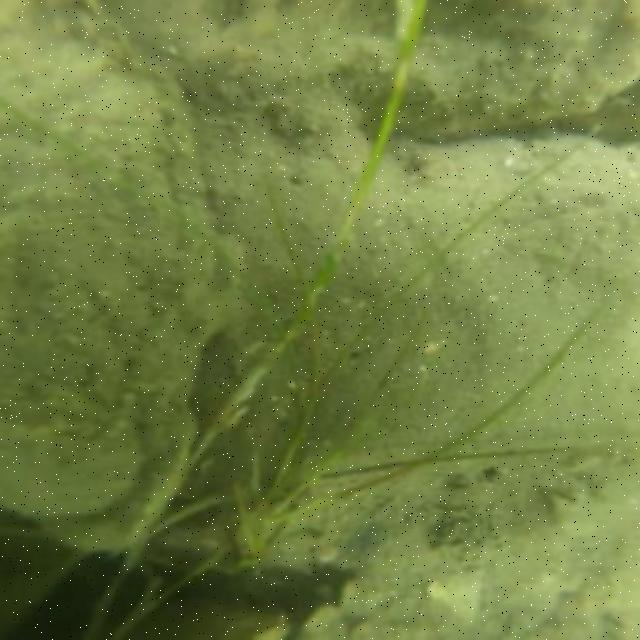Oyster-Closed: (288, 439, 638, 638), (107, 2, 420, 136), (388, 2, 638, 131)
Oyster-Open: (0, 9, 224, 555)
